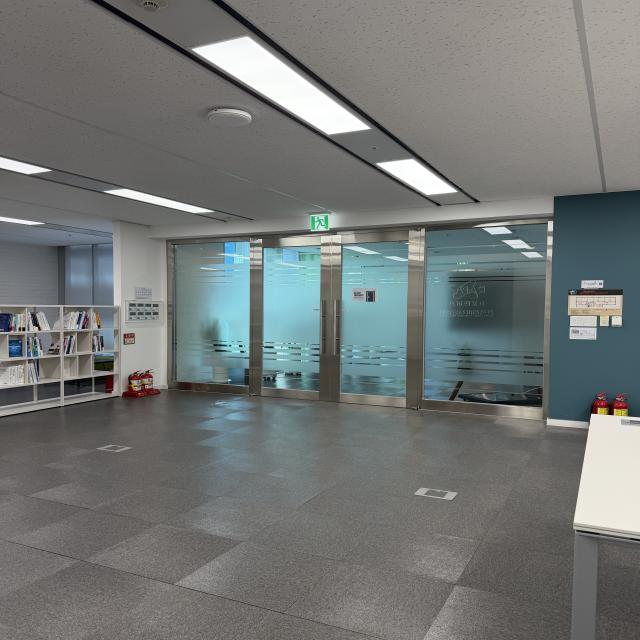front_door: (167, 199, 553, 422)
